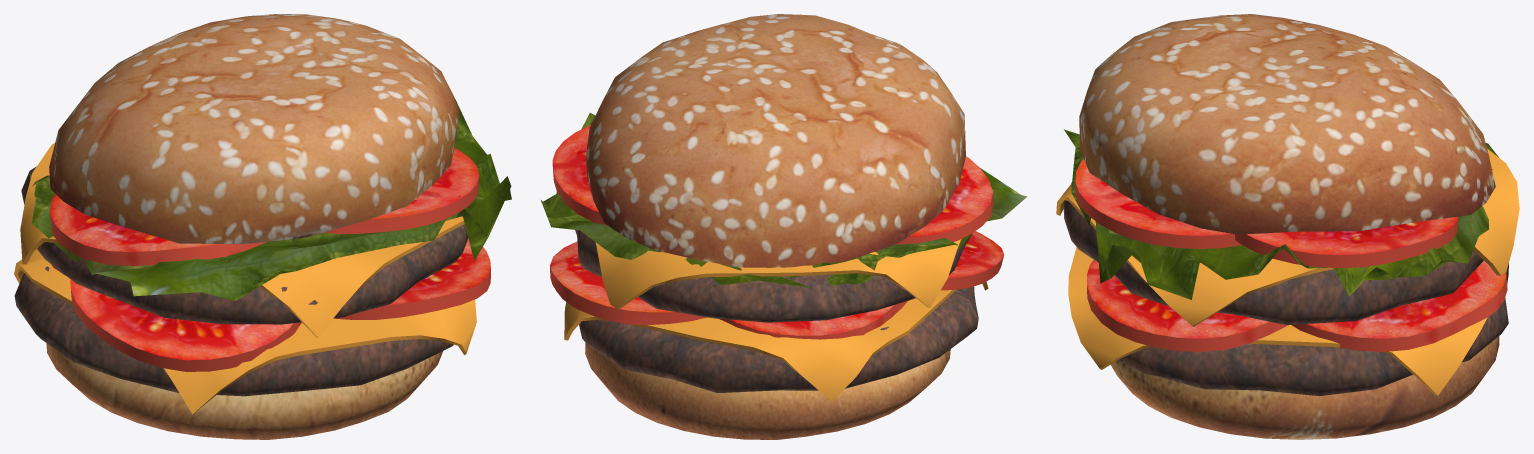
File: SM_Burger.fbx
3 views of the same model, side by side, from view 1: azimuth 30°, elevation 25°; view 2: azimuth 150°, elevation 25°; view 3: azimuth 270°, elevation 25° (orthographic). The views are drawn at different scales.
Visible parts, largest first — view 1: SM_Burger_LOD0; view 2: SM_Burger_LOD0; view 3: SM_Burger_LOD0.
Boxes of the visible parts, x1=… form: SM_Burger_LOD0: x1=14, y1=14, x2=511, y2=439; SM_Burger_LOD0: x1=541, y1=14, x2=1027, y2=439; SM_Burger_LOD0: x1=1056, y1=14, x2=1519, y2=439.
Size of the model in its own units: 13.67 by 13.17 by 9.68.
Materials: 1 (1 with a texture image).
